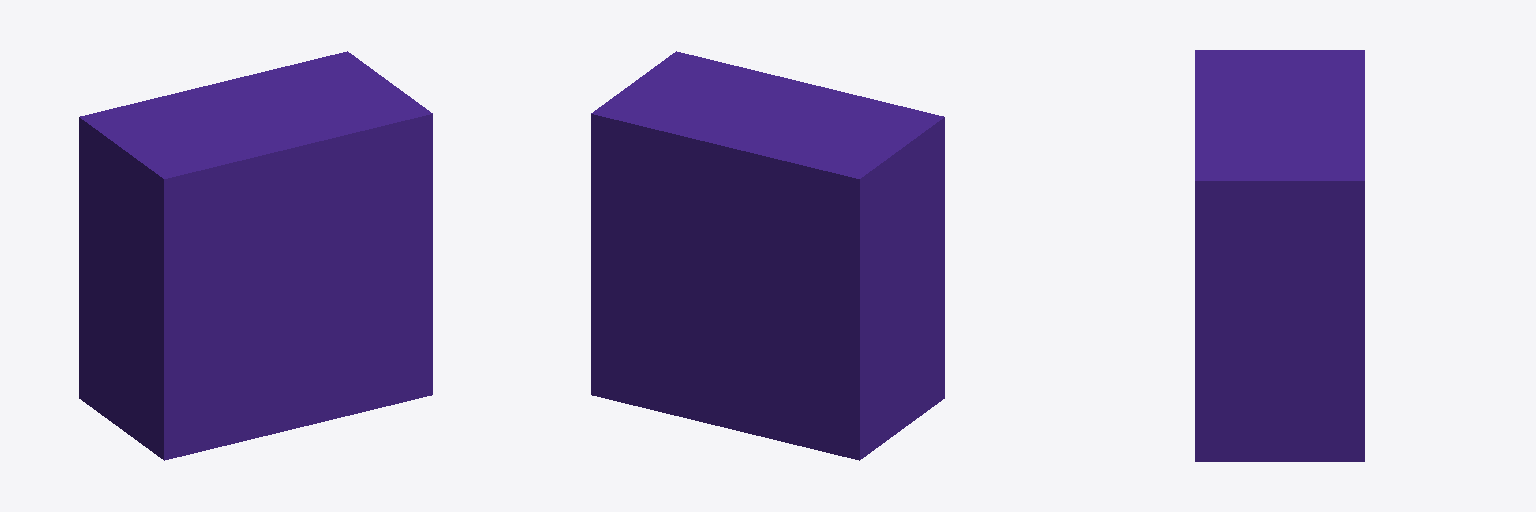
The model's file is CutCloth.OBJ.
3 views of the same model, side by side, from view 1: azimuth 30°, elevation 25°; view 2: azimuth 150°, elevation 25°; view 3: azimuth 270°, elevation 25° (orthographic).
Parts seen in each view (by area): view 1: CutCloth_Plane; view 2: CutCloth_Plane; view 3: CutCloth_Plane.
Boxes of the visible parts, x1,y1,x2,y2 form: CutCloth_Plane: [79, 51, 432, 460]; CutCloth_Plane: [591, 51, 944, 460]; CutCloth_Plane: [1195, 50, 1364, 461].
Size of the model in its own units: 0.6729 by 0.6729 by 0.37.